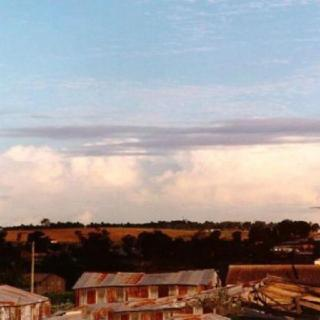Cirrocumulus: (0, 95, 320, 216)
